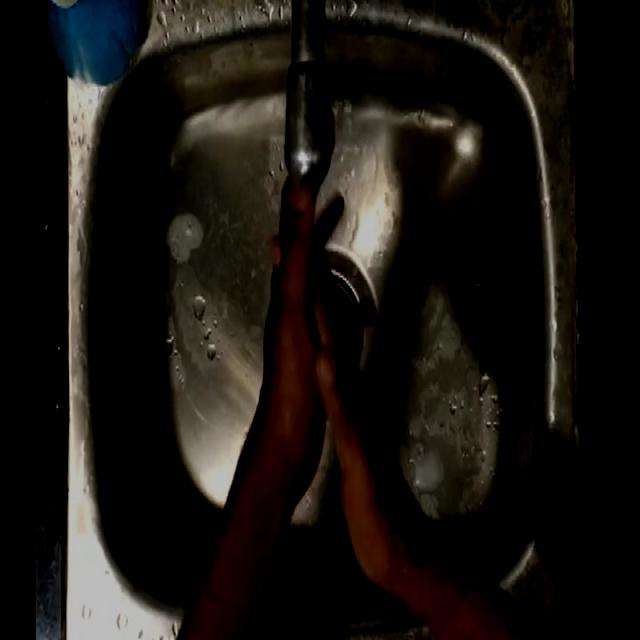step_1: (246, 123, 380, 462)
